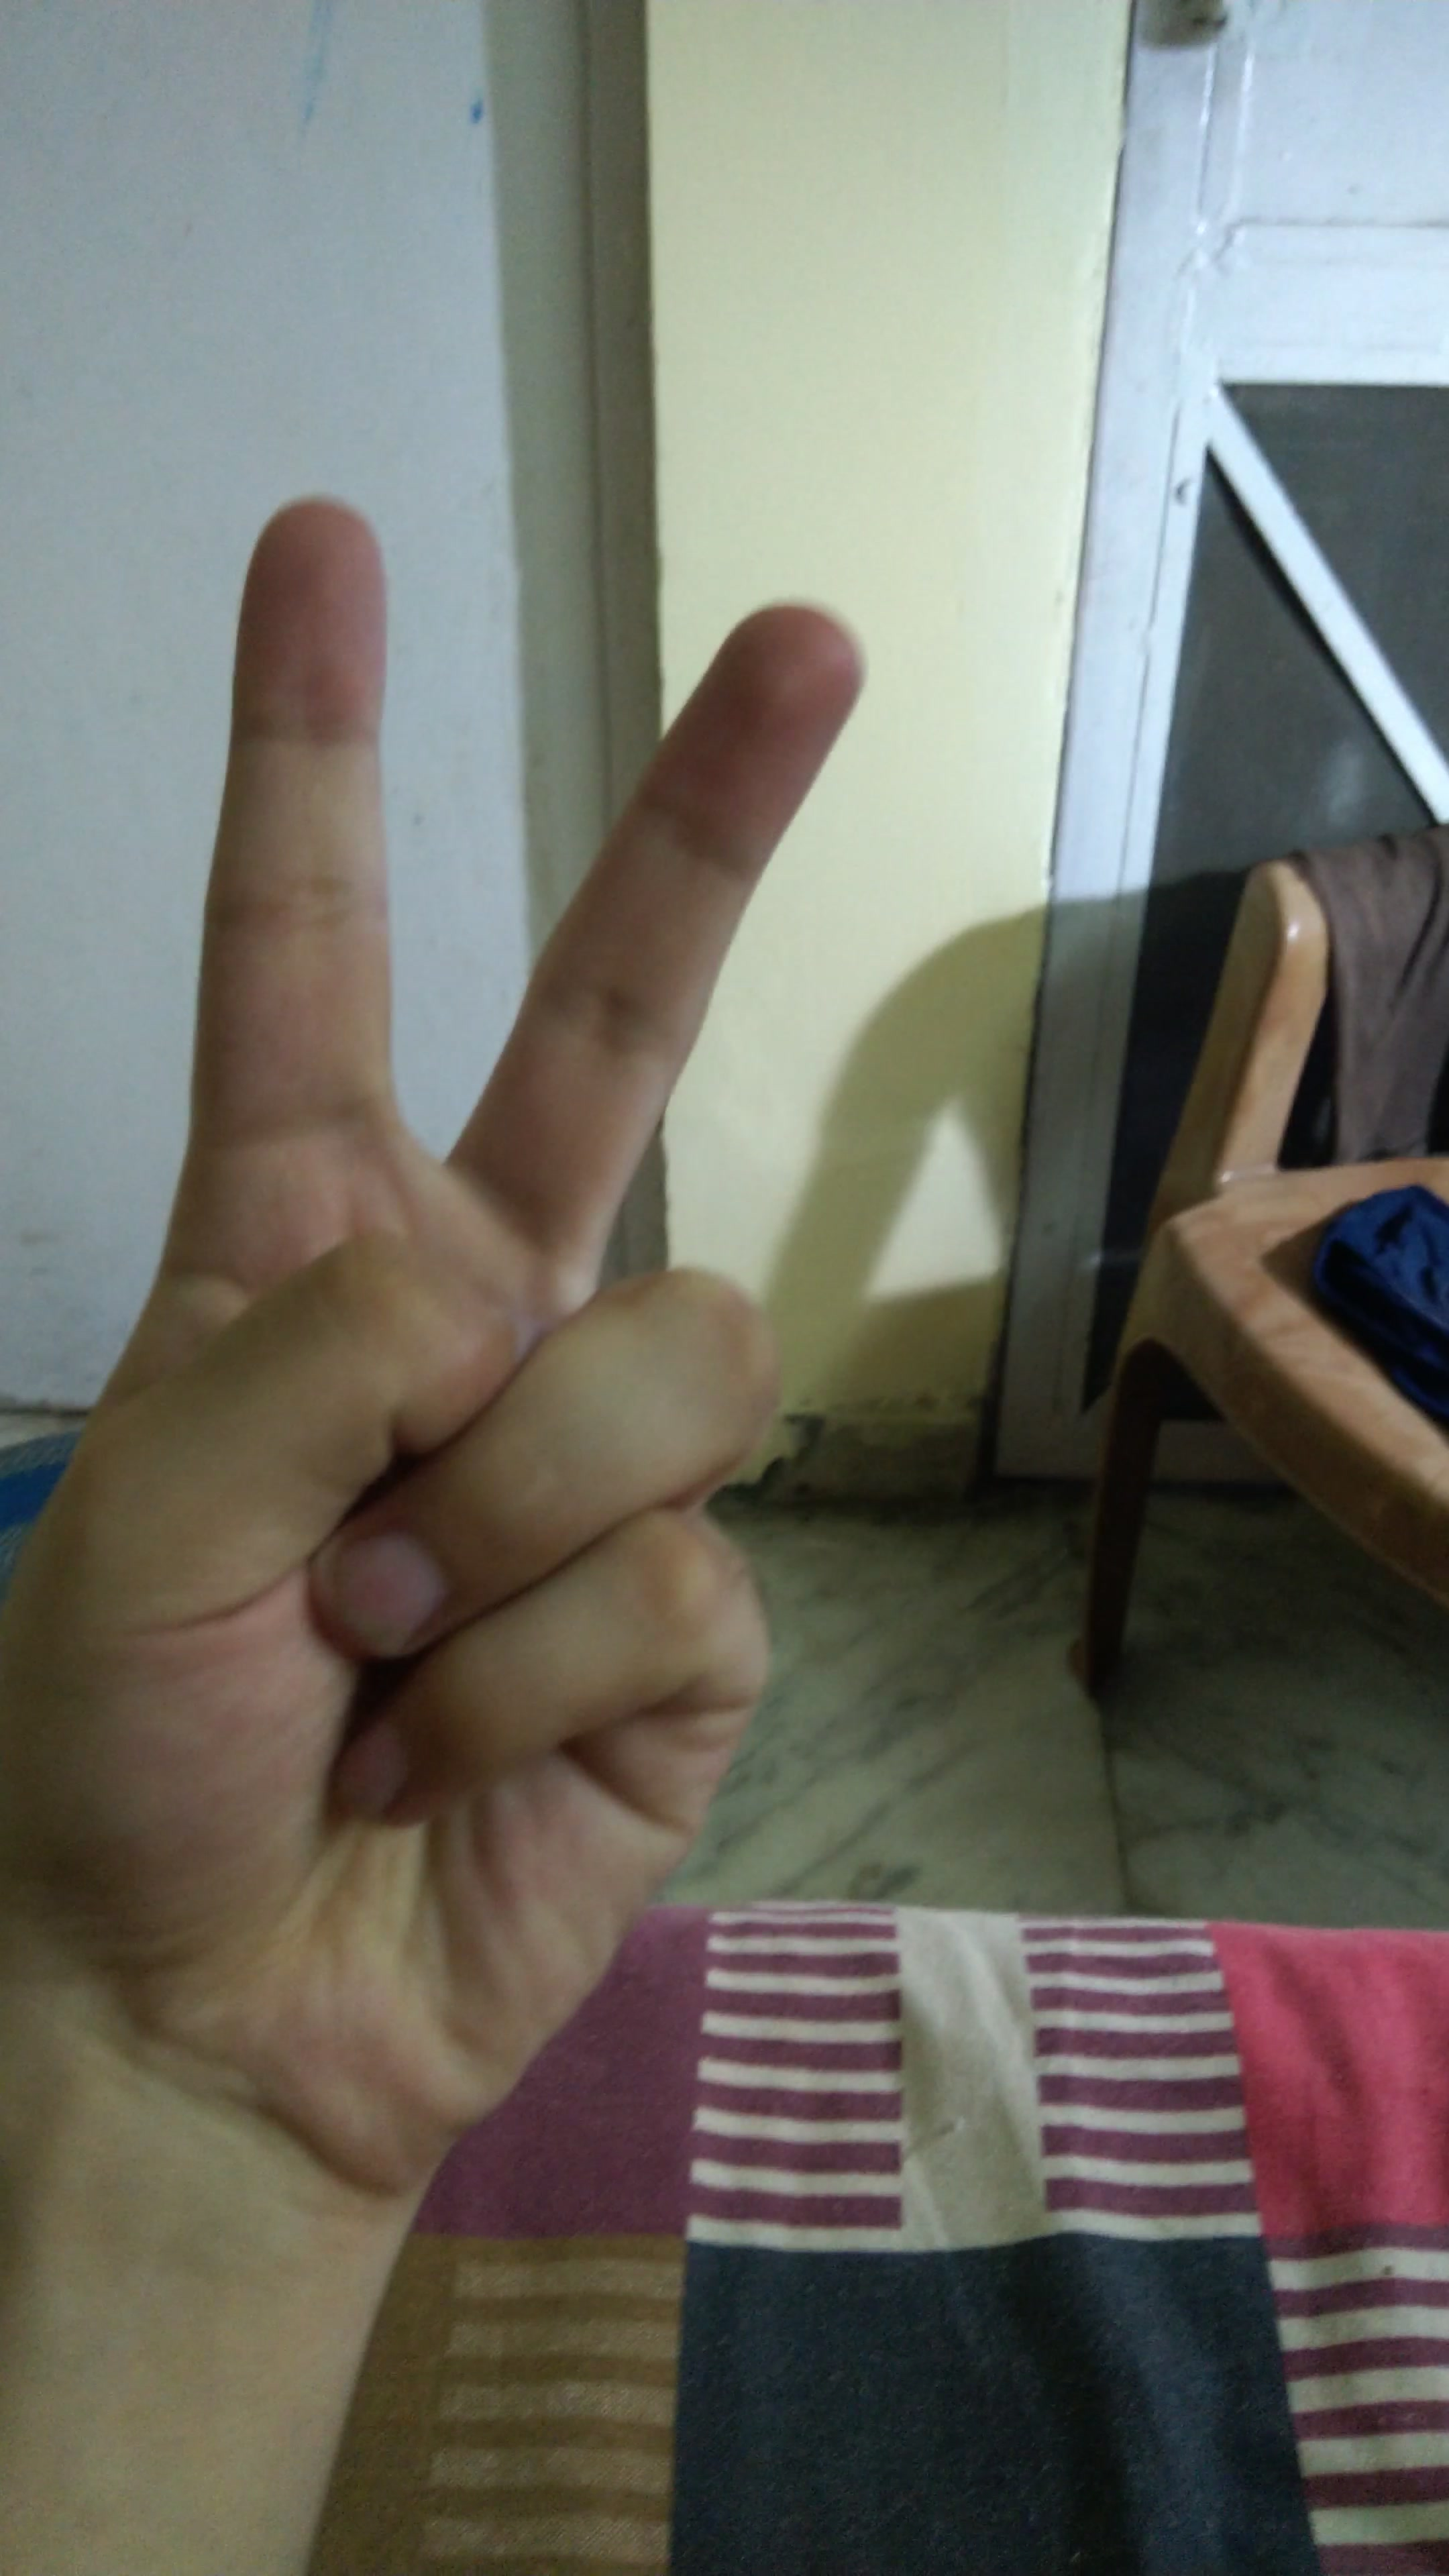hand: (41, 449, 932, 2203)
